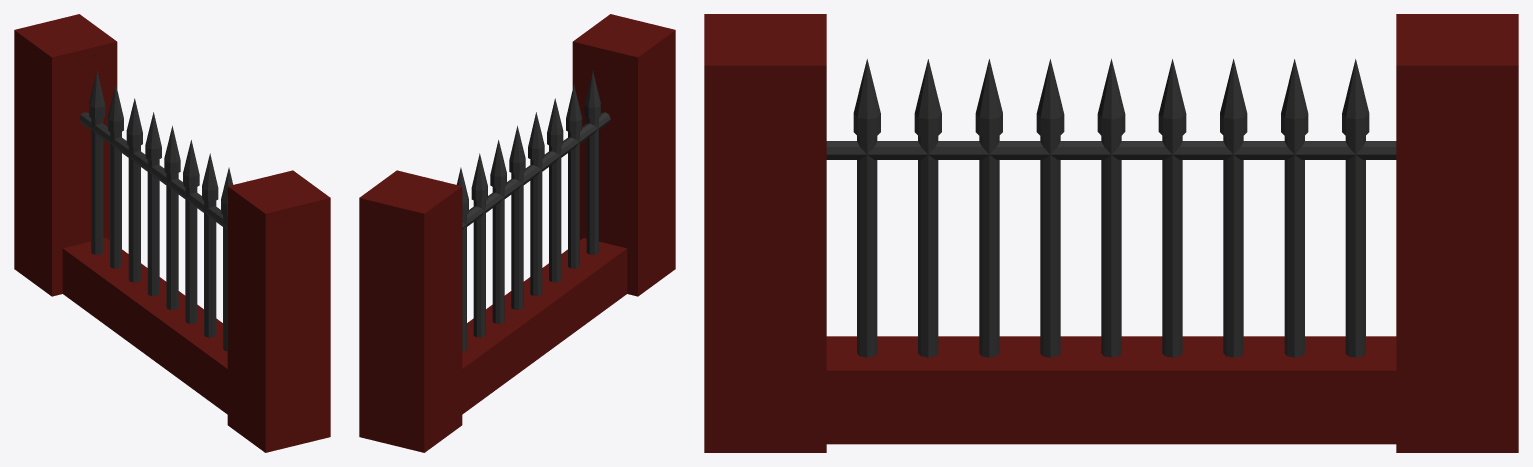
The model's file is Fence.obj.
3 renders of one model, left to right at view 1: azimuth 30°, elevation 25°; view 2: azimuth 150°, elevation 25°; view 3: azimuth 270°, elevation 25°, orthographic. The views are drawn at different scales.
Visible parts, largest first — view 1: Cube.002, Cylinder; view 2: Cube.002, Cylinder; view 3: Cube.002, Cylinder.
Part boxes in pixels (x1,y1,x2,y2): Cube.002: (14, 14, 330, 452); Cylinder: (79, 70, 233, 351); Cube.002: (359, 14, 675, 452); Cylinder: (456, 70, 610, 351); Cube.002: (704, 14, 1518, 452); Cylinder: (826, 58, 1396, 357).
Bounding box in the file's own units: 0.6 × 2.1 × 4.
